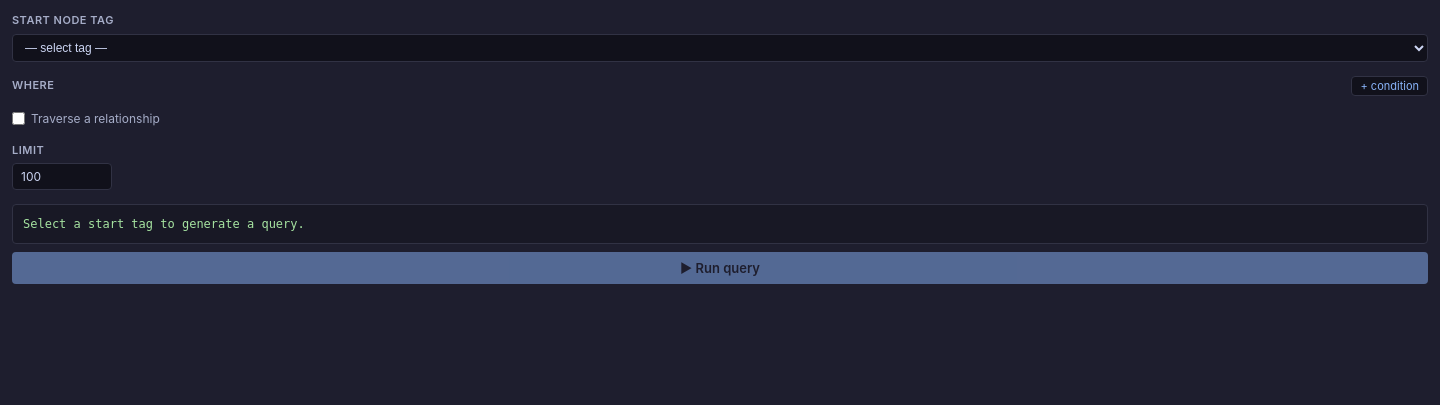
Scenario: QueryBuilderPanel › adds a relationship to the generated pattern
Select "person" in the dropdown with test id "qb-start-tag" at (720, 48), box [12,34,1428,62]
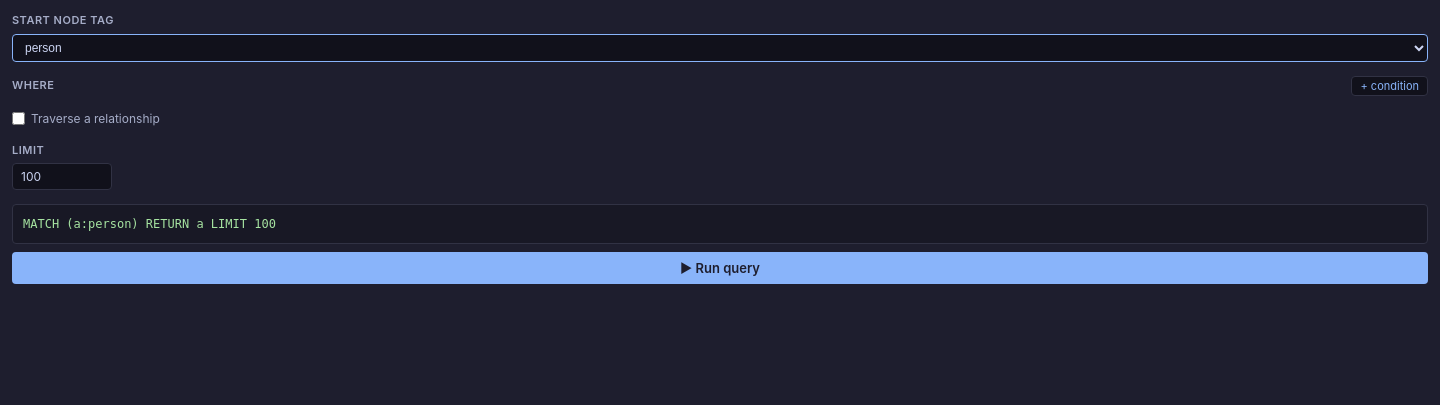
Click the checkbox with test id "qb-edge-toggle" at (18, 118), box [12,112,25,125]
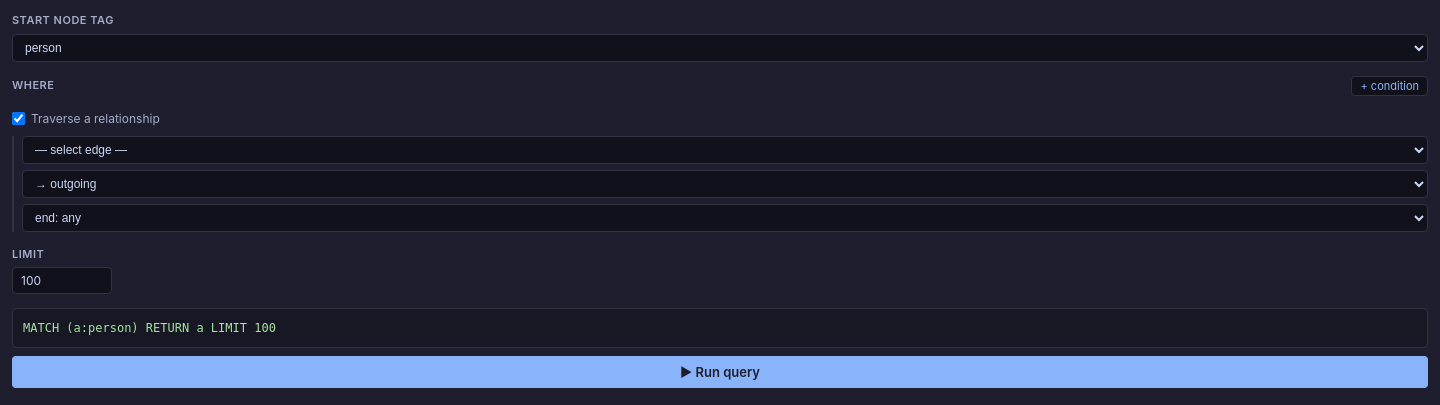
Select "knows" in the dropdown with test id "qb-edge-name" at (725, 150), box [22,136,1428,164]
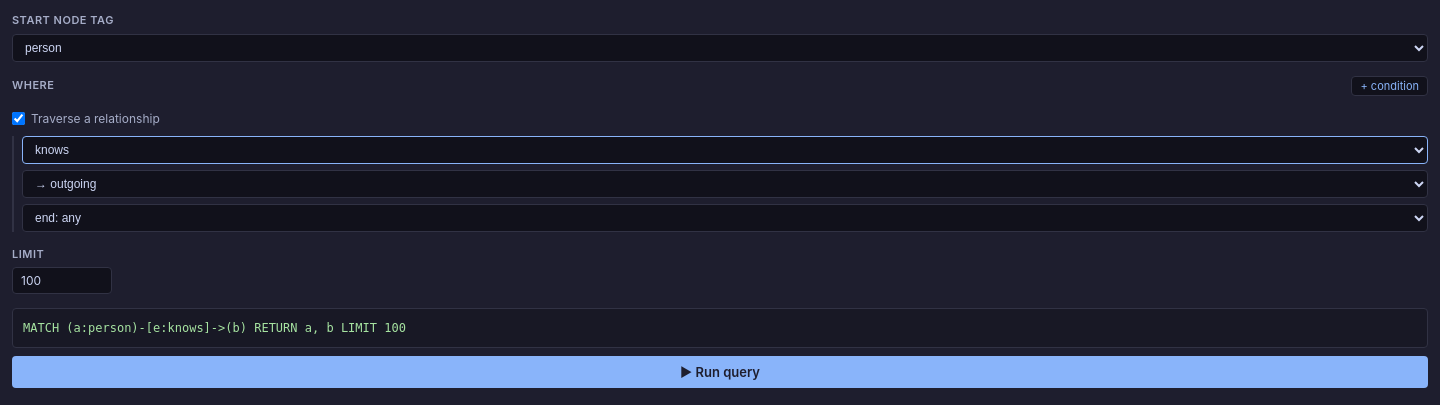
Select "end: person" in the dropdown with test id "qb-end-tag" at (725, 218), box [22,204,1428,232]
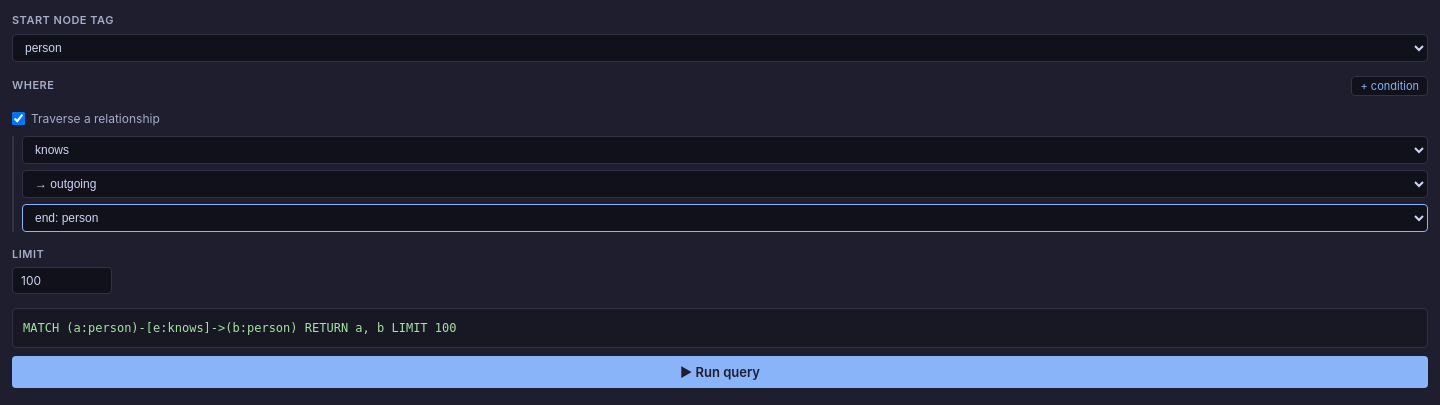
Result: the text with test id "qb-preview" reads "MATCH (a:person)-[e:knows]->(b:person) RETURN a, b LIMIT 100" at [23,321,456,335]
